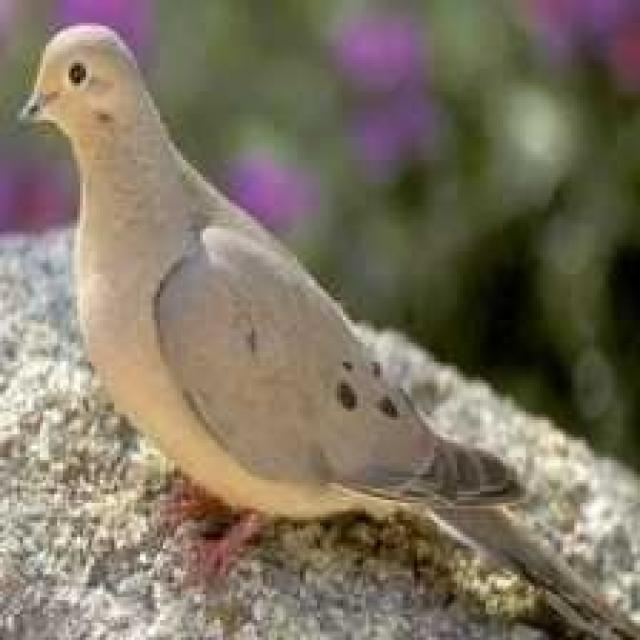bird: (10, 25, 640, 638)
